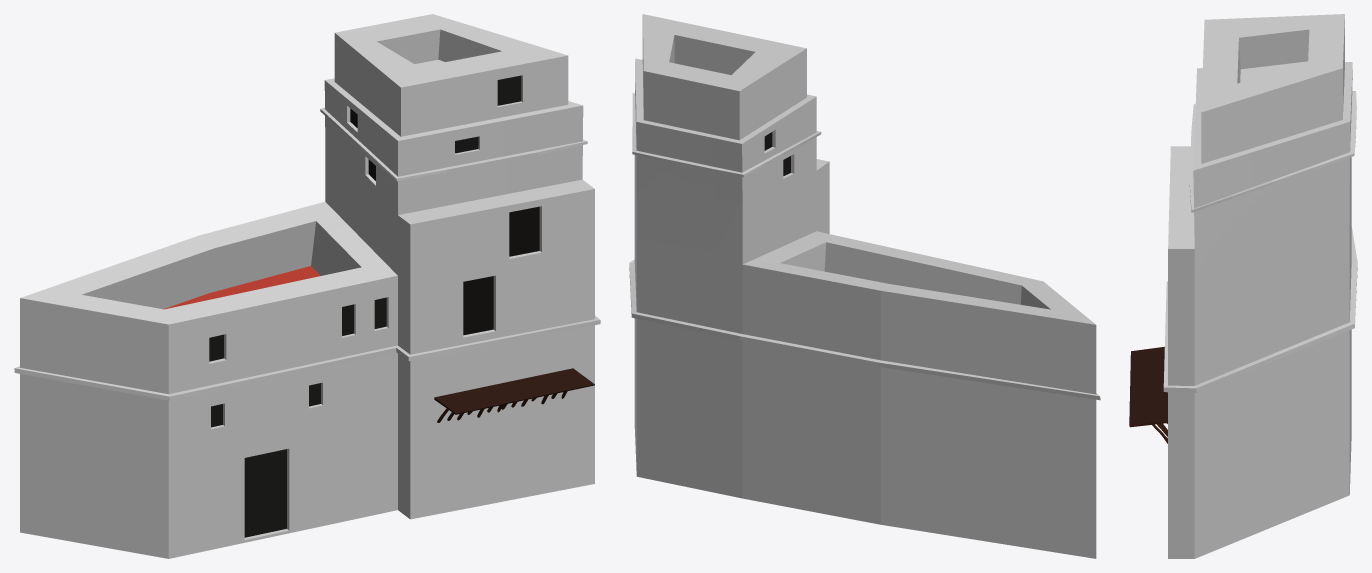
Rendered from casbah-house.glb.
3 views of the same model, side by side, from view 1: azimuth 30°, elevation 25°; view 2: azimuth 150°, elevation 25°; view 3: azimuth 270°, elevation 25° (orthographic). The views are drawn at different scales.
Parts seen in each view (by area): view 1: 22222.026; view 2: 22222.026; view 3: 22222.026.
Part boxes in pixels (x1=…): 22222.026: x1=14, y1=14, x2=600, y2=558; 22222.026: x1=629, y1=14, x2=1100, y2=558; 22222.026: x1=1129, y1=14, x2=1357, y2=558.
Bounding box in the file's own units: 13192 × 10443 × 4756.
